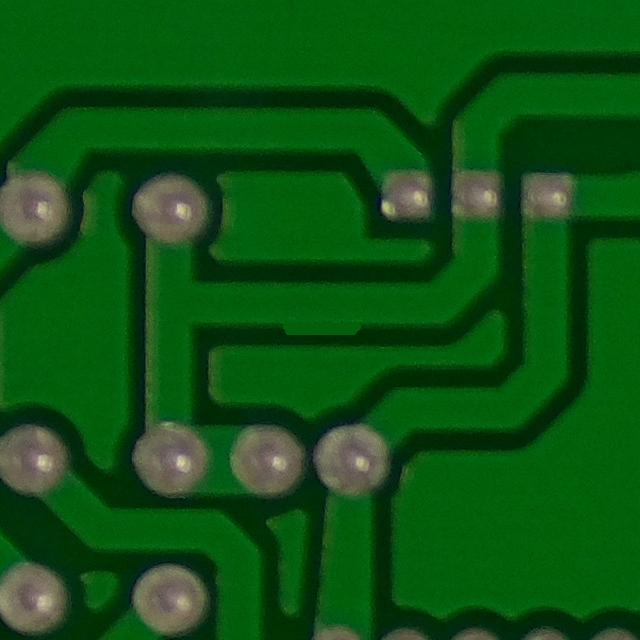spur: (262, 291, 378, 350)
